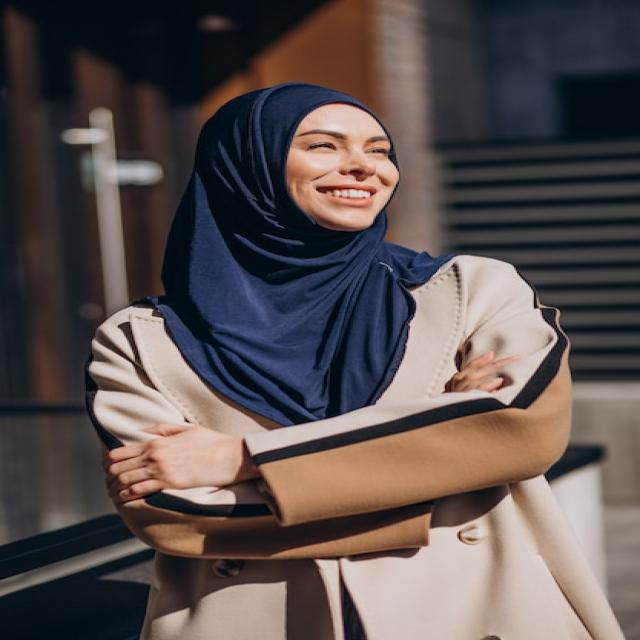Person: (85, 83, 624, 640)
